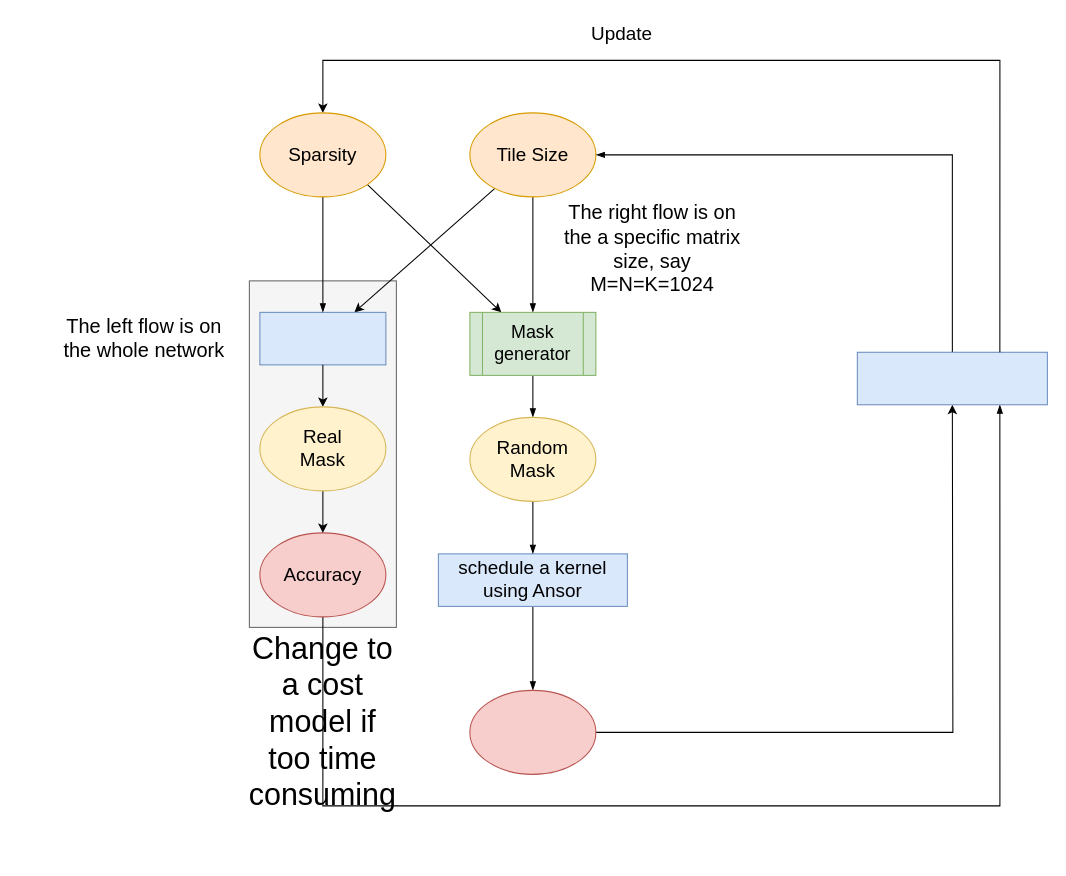
Some shapes in this 1066 by 876 pixel diagram are drawn without their labels. The shapes that lost their labels are listed below. From the top down, each one's centre as x and y in pixels, then its label:
At (322,338): "Prune".
At (951,378): "Cost Model".
At (532,731): "Latency".
